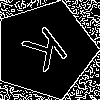K: (20, 24, 76, 81)
